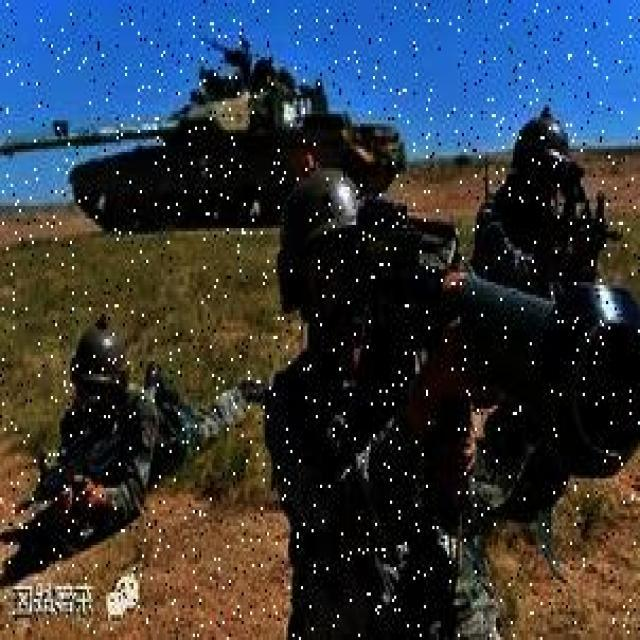fall: (51, 323, 250, 532)
